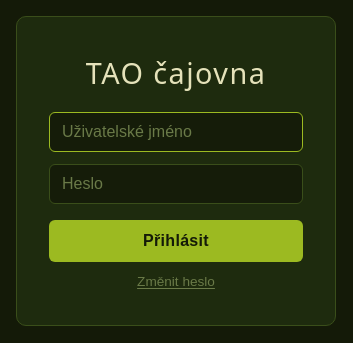
Login › deaktivuje tlačítko během načítání
The width and height of the screenshot is (353, 343).
Type "terka" into the field with placeholder "Uživatelské jméno".
click(176, 132); type("terka")  # box [49,112,303,152]
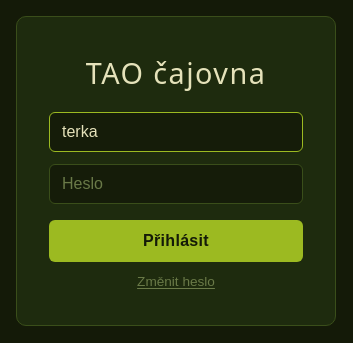
Type "heslo" into the password field with placeholder "Heslo".
click(176, 184); type("heslo")  # box [49,164,303,204]
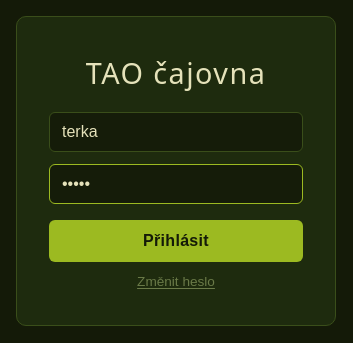
Click the button "Přihlásit".
click(176, 241)  # box [49,220,303,262]
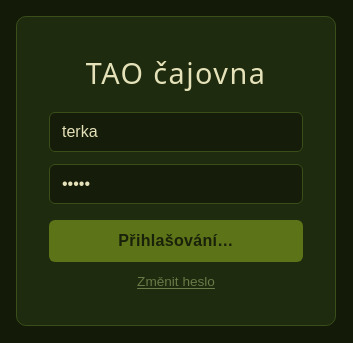
Expected: the button "Přihlašování…" is disabled, [49,220,303,262]
